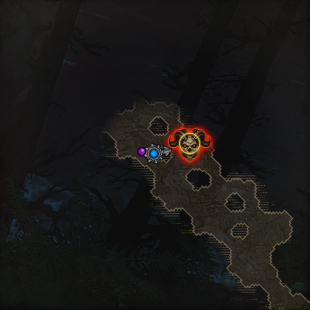Guardian: (167, 129, 212, 164)
